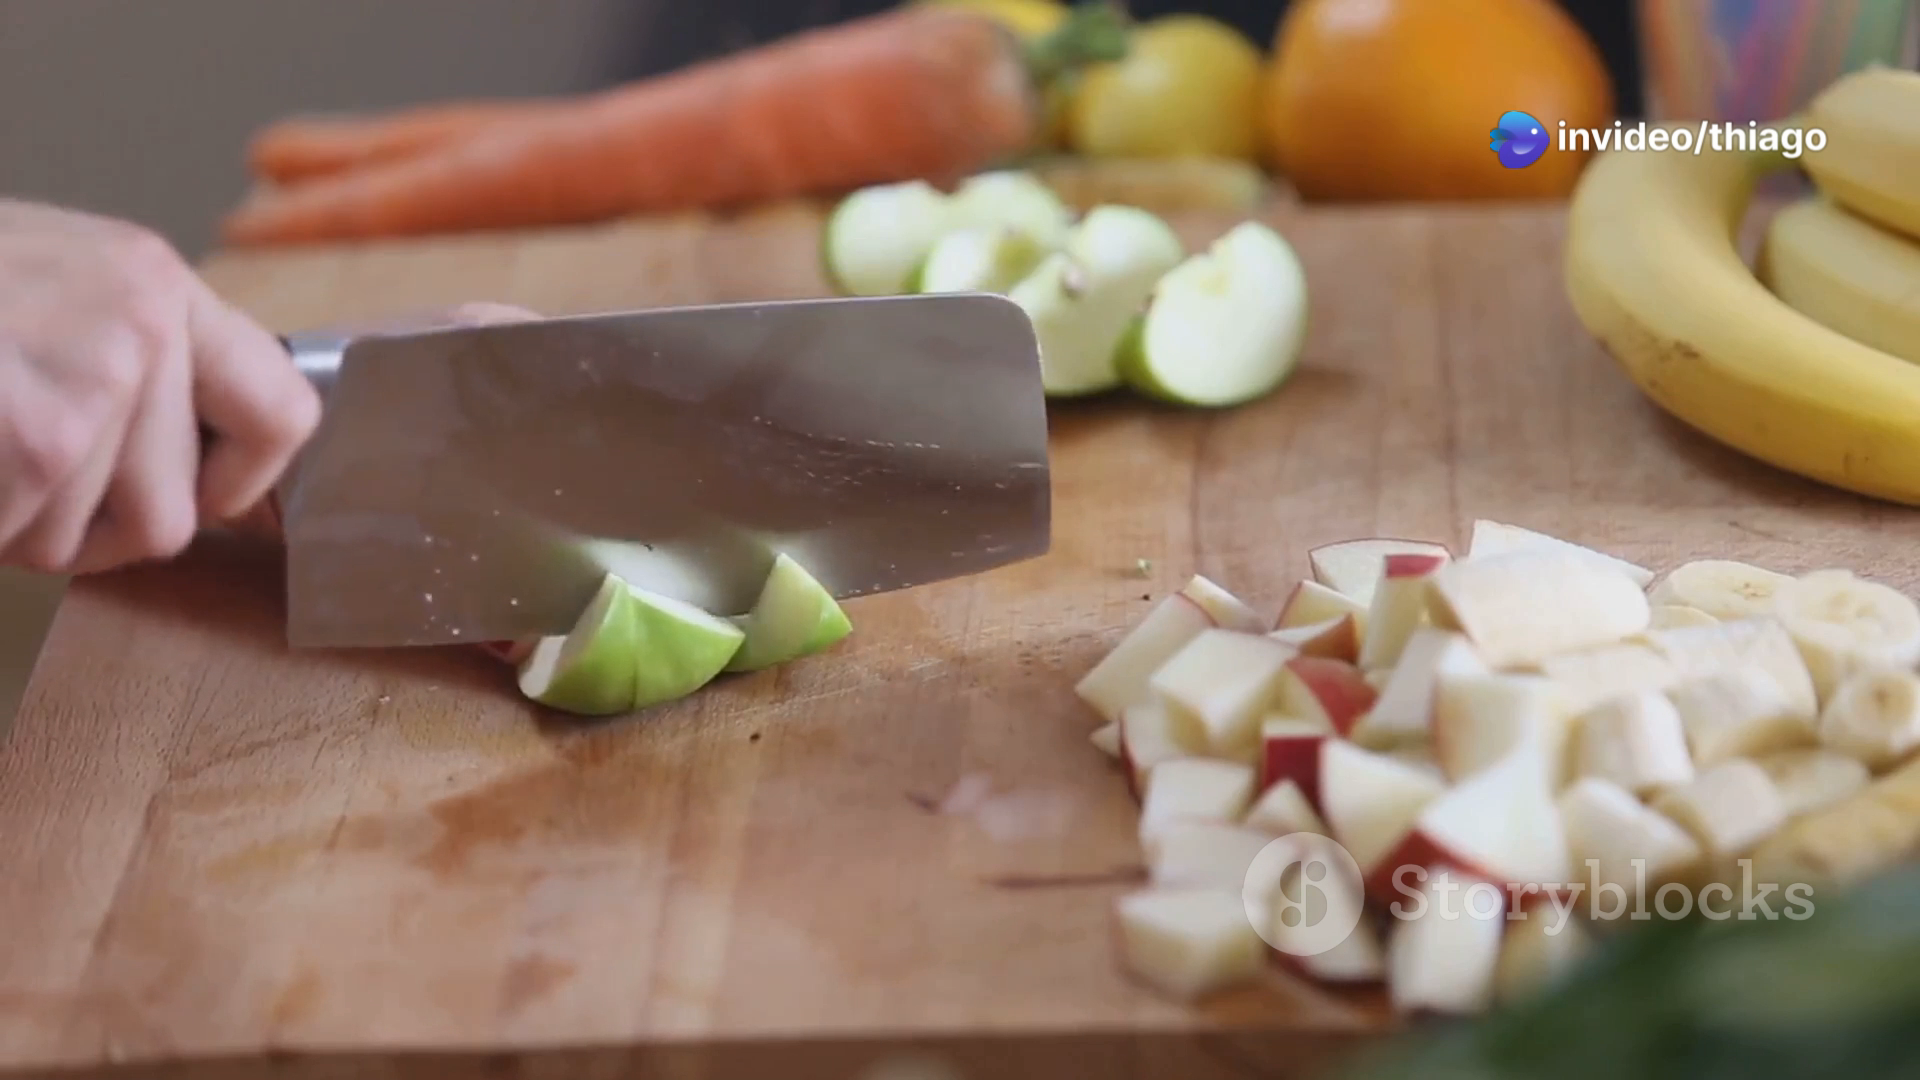cortante: (282, 295, 1051, 655)
